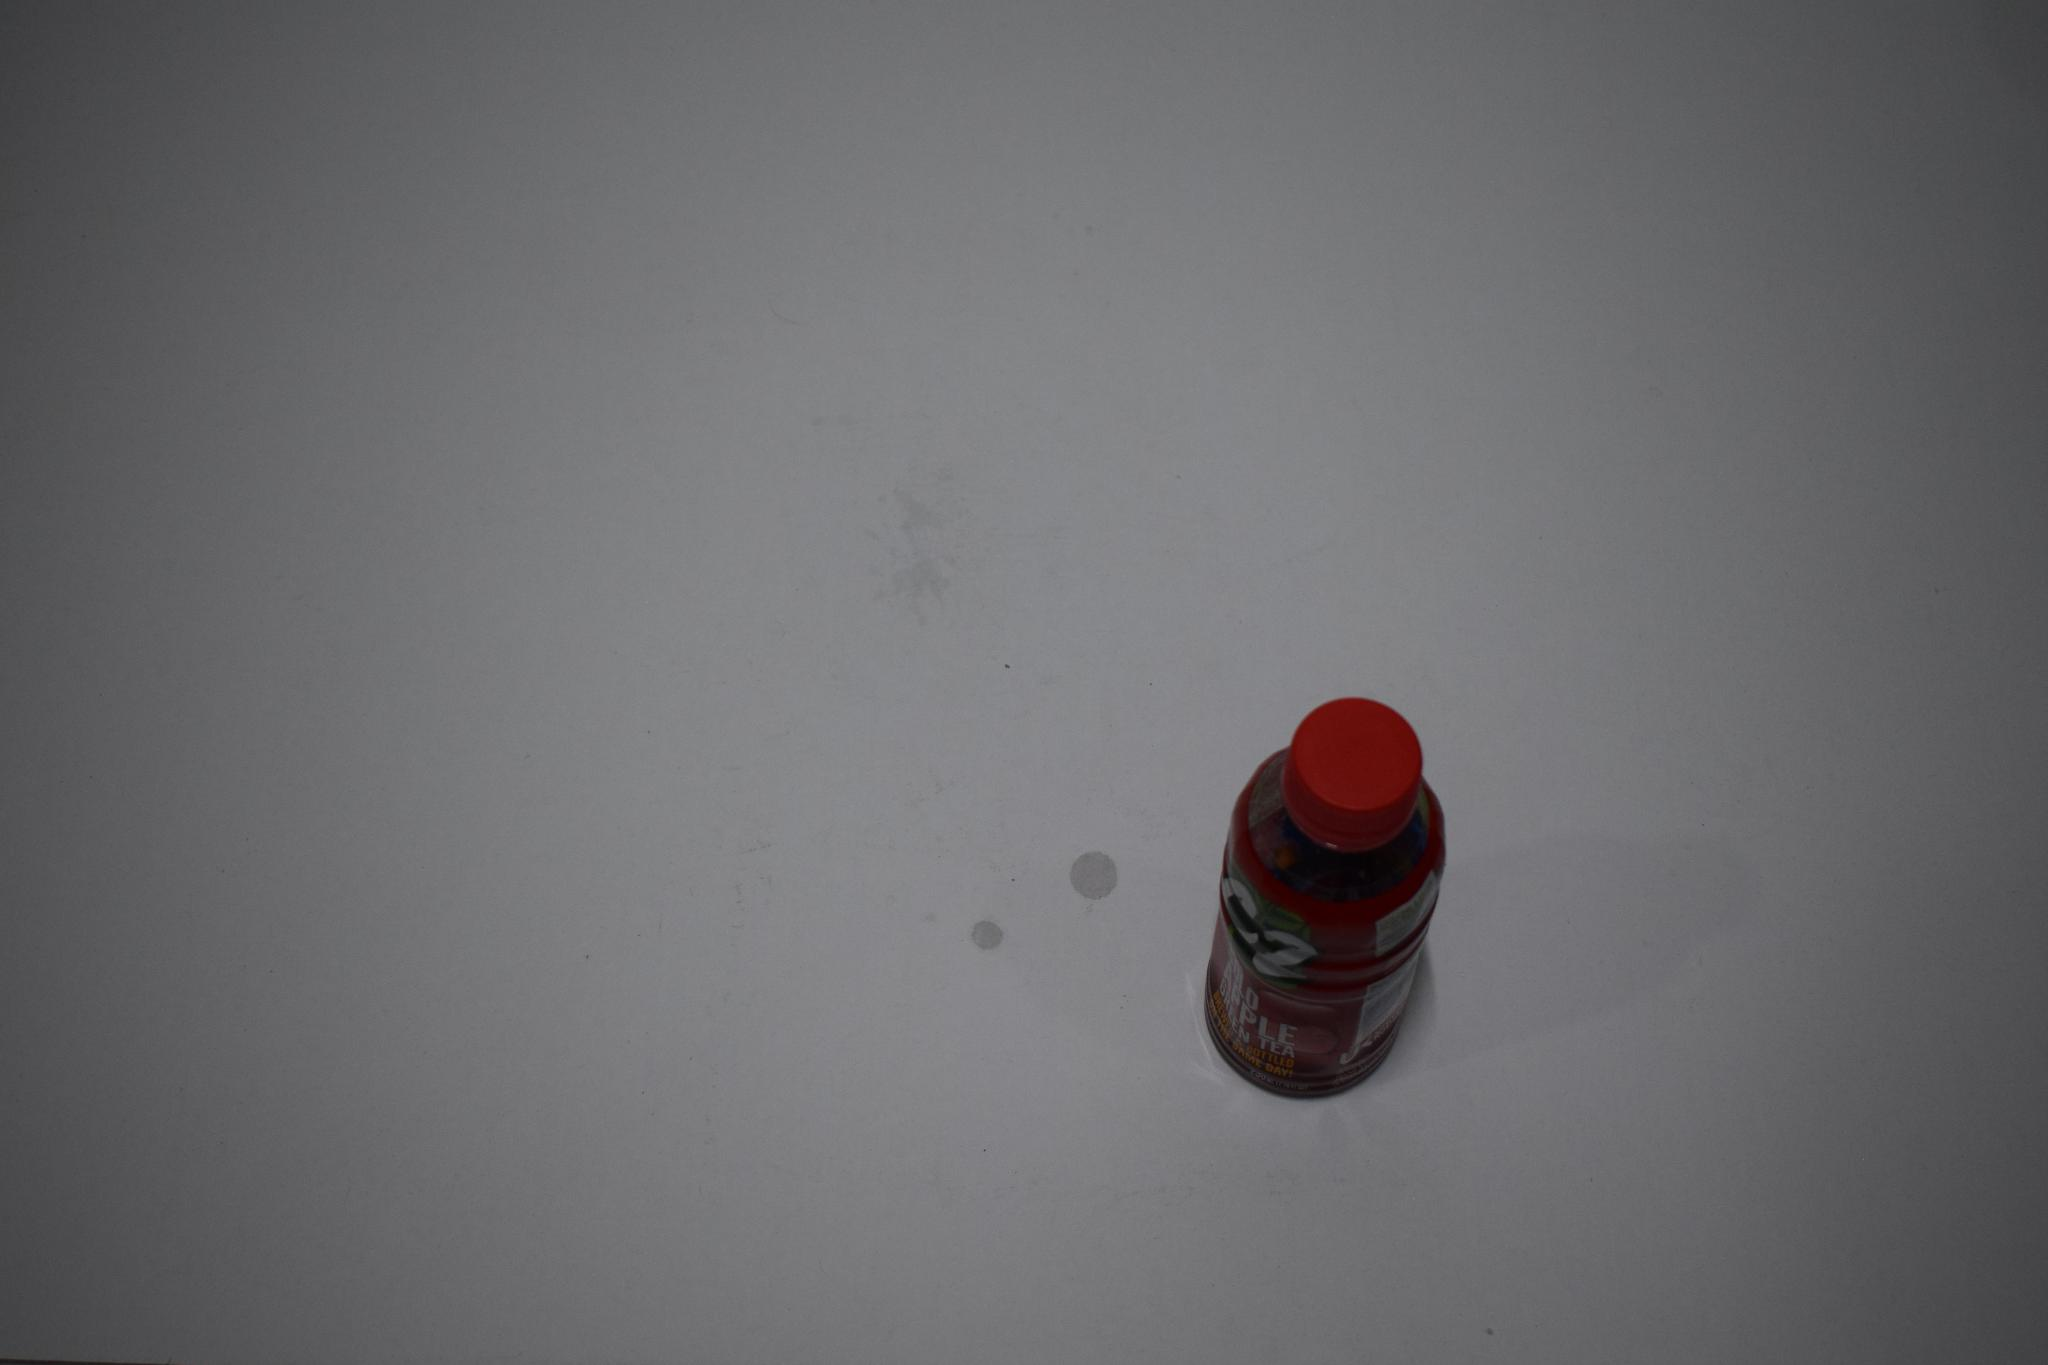bottle: (1194, 686, 1454, 1117)
